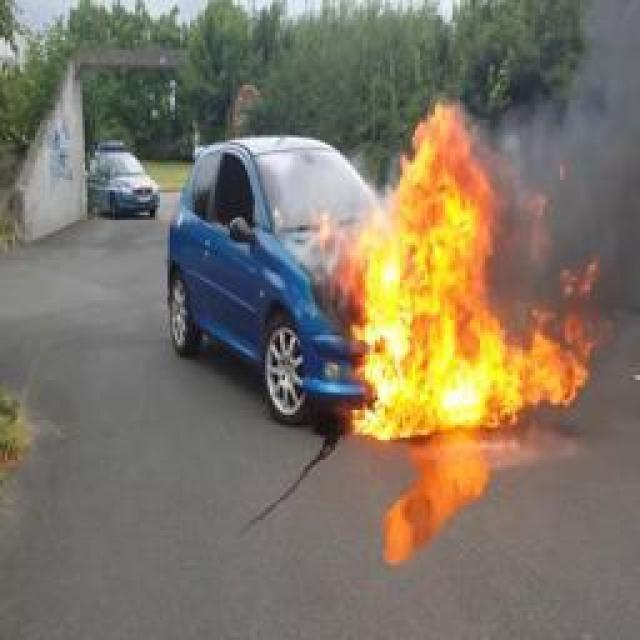Fire: (317, 100, 605, 445)
